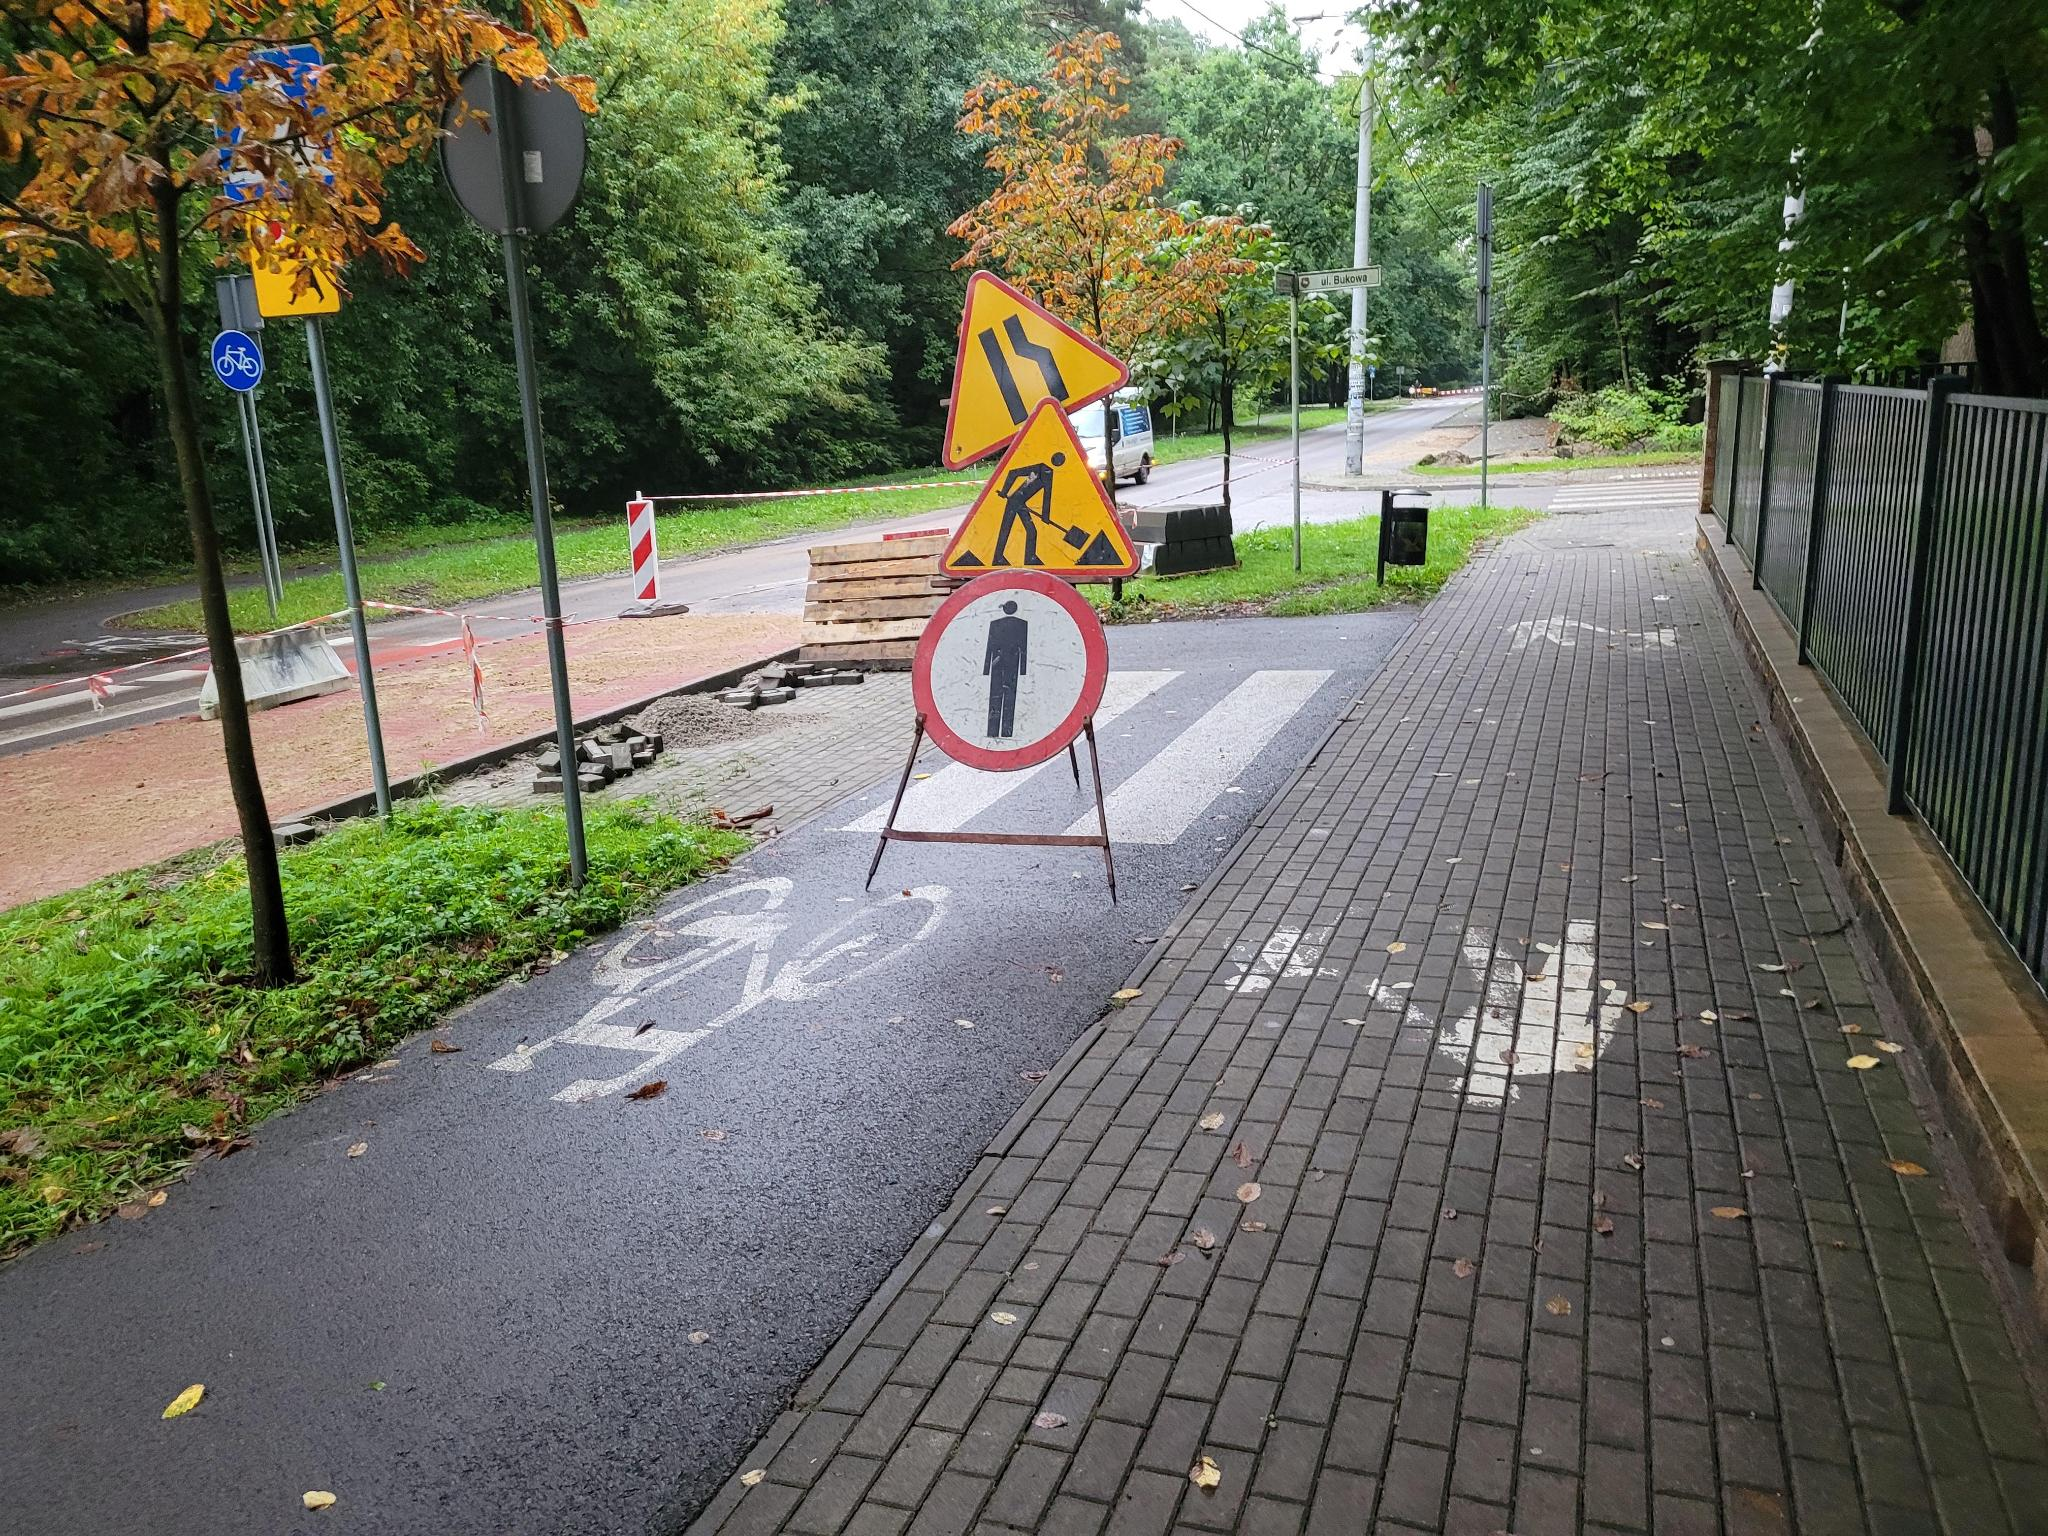information: (203, 44, 355, 210)
mandatory: (214, 331, 264, 390)
prohibitory: (905, 571, 1114, 774)
warning: (942, 269, 1132, 481), (940, 394, 1140, 579), (239, 198, 363, 319)
